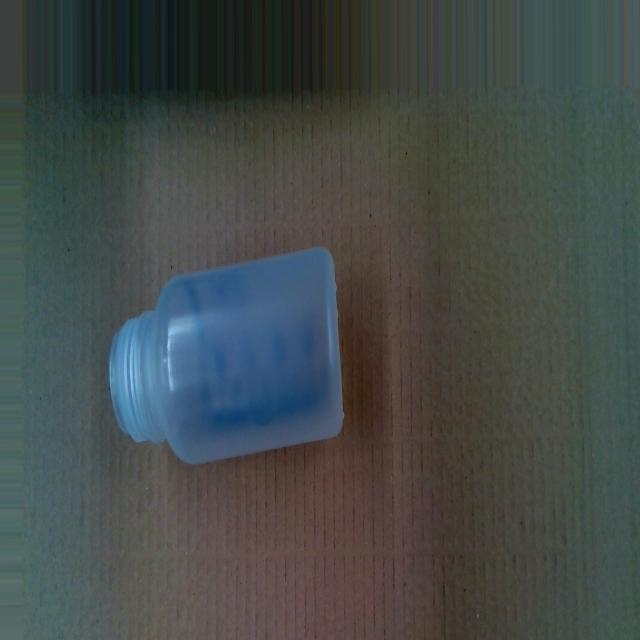bottle: (110, 236, 350, 467)
